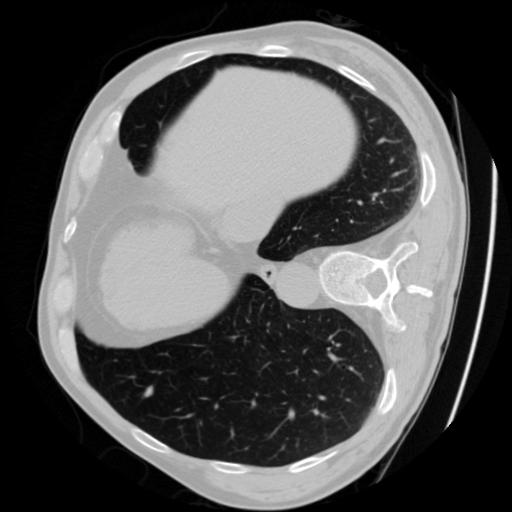nodule: (141, 382, 158, 399)
